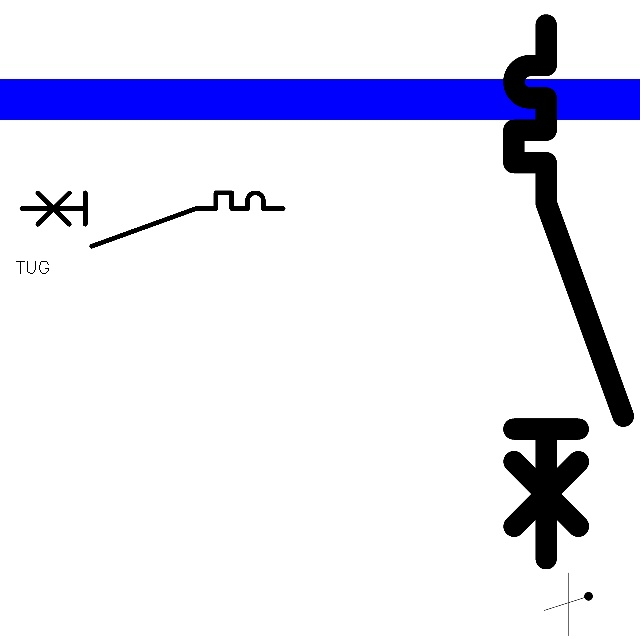interruptor_termomagnetico: (500, 11, 637, 573), (15, 186, 290, 253)
